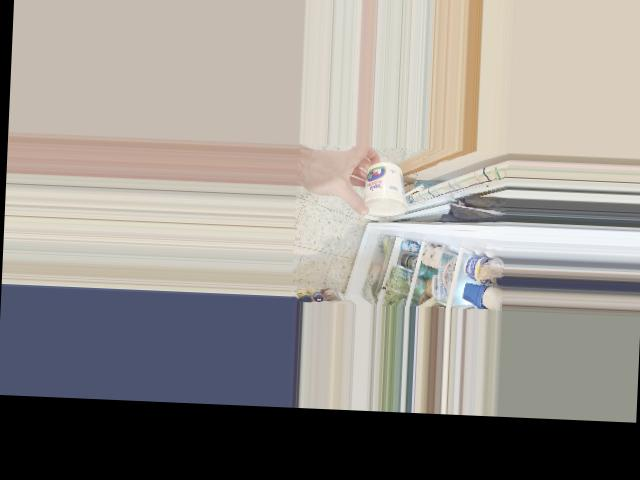cotage: (359, 155, 409, 220)
